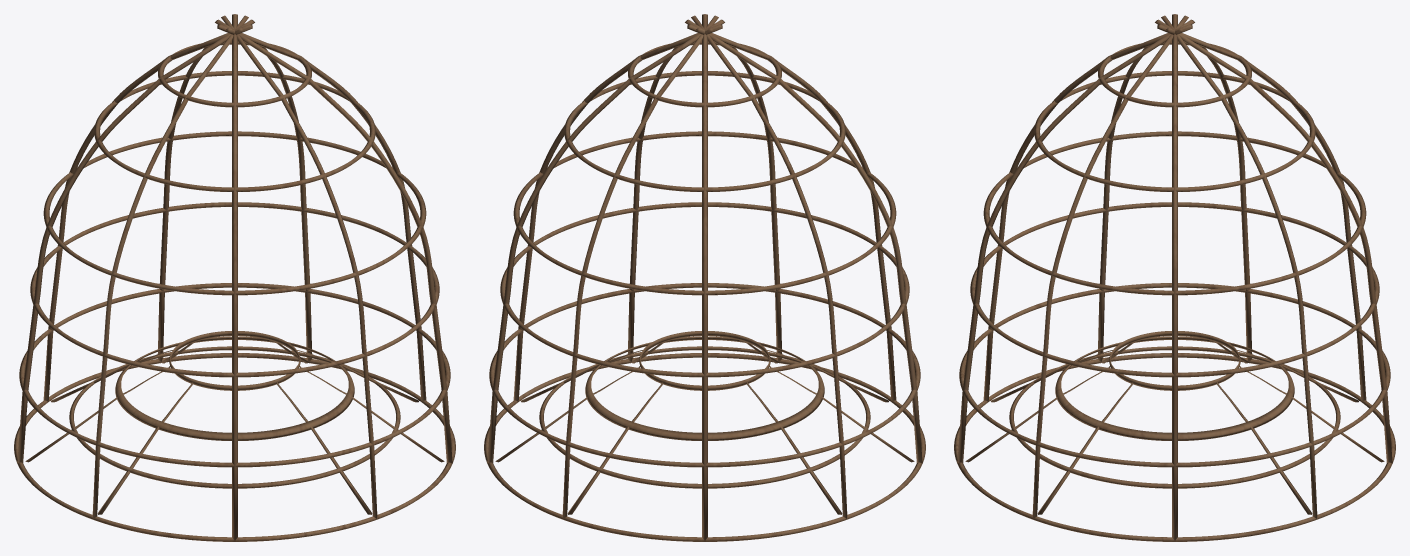
File: FishTrap.FBX
3 renders of one model, left to right at view 1: azimuth 30°, elevation 25°; view 2: azimuth 150°, elevation 25°; view 3: azimuth 270°, elevation 25°, orthographic.
Parts seen in each view (by area): view 1: Shape001; view 2: Shape001; view 3: Shape001.
Part boxes in pixels (box(x1,y1,x2,y2)): Shape001: box(14, 14, 455, 541); Shape001: box(484, 14, 925, 541); Shape001: box(954, 14, 1395, 541).
Bounding box in the file's own units: 214 × 229 × 214.
Materials: 1 (1 with a texture image).
